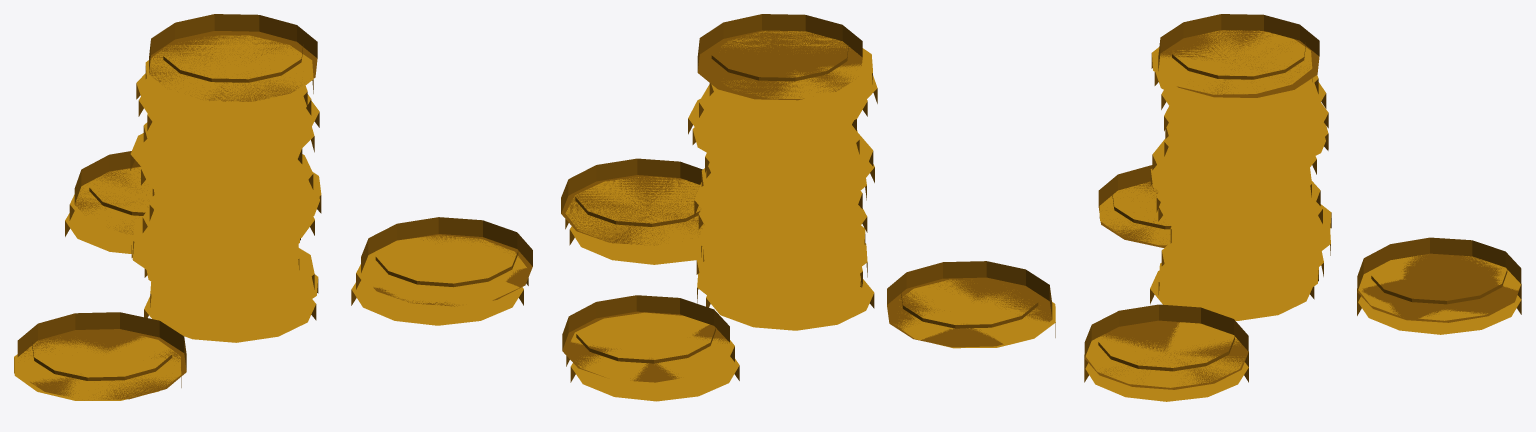
File: cash-stack.glb
The picture shows the model from 3 angles, left to right: view 1: azimuth 30°, elevation 25°; view 2: azimuth 150°, elevation 25°; view 3: azimuth 270°, elevation 25°; orthographic projection. The views are drawn at different scales.
Parts seen in each view (by area): view 1: CashStack; view 2: CashStack; view 3: CashStack.
Part boxes in pixels (x1,y1,x2,y2): CashStack: (14,14,532,400); CashStack: (561,14,1055,401); CashStack: (1084,14,1521,401).
Size of the model in its own units: 0.8513 by 0.448 by 0.69.
